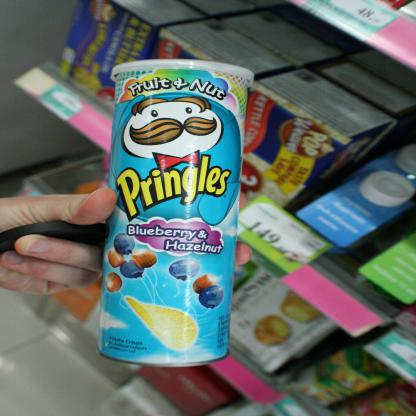potatochip: (96, 57, 254, 370)
